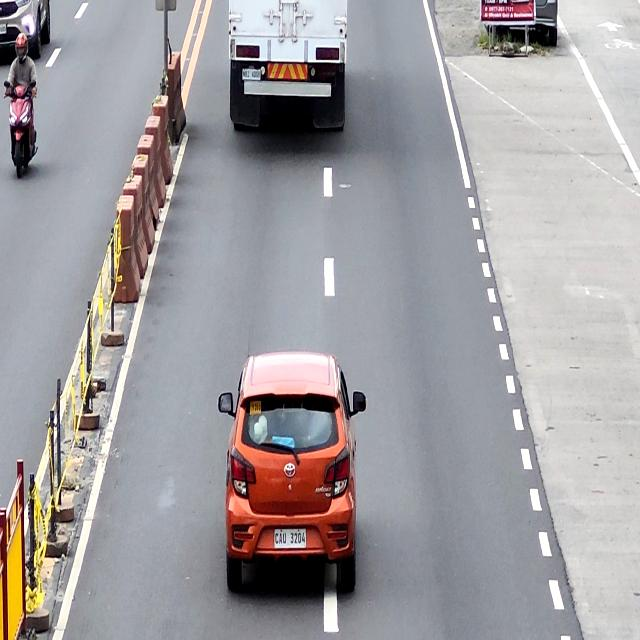Car: (217, 351, 367, 596)
License-Plate: (274, 528, 306, 549), (241, 68, 261, 80)
Truck: (229, 0, 348, 132)
